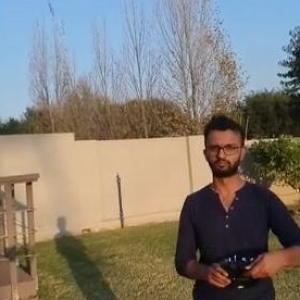follow: (170, 110, 299, 299)
